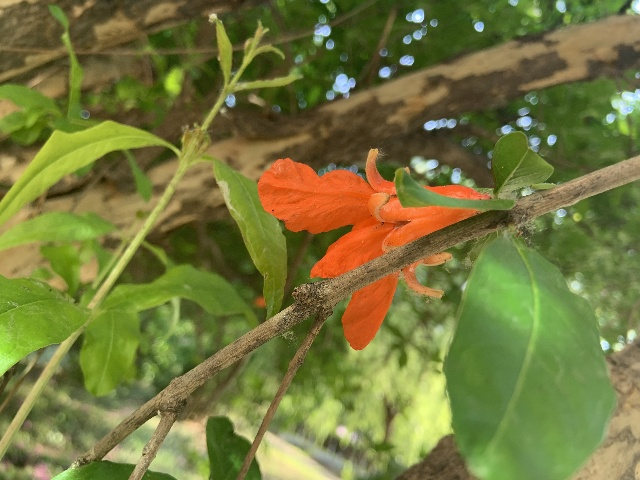flower: (259, 146, 491, 349)
